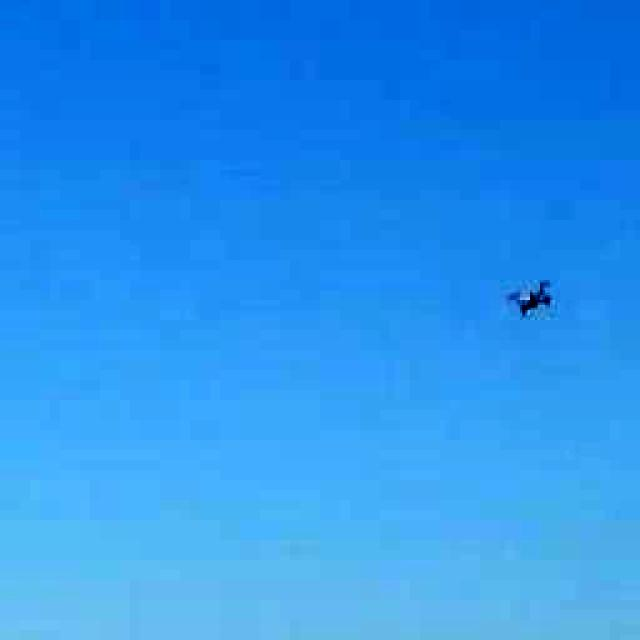bird: (478, 262, 585, 330)
